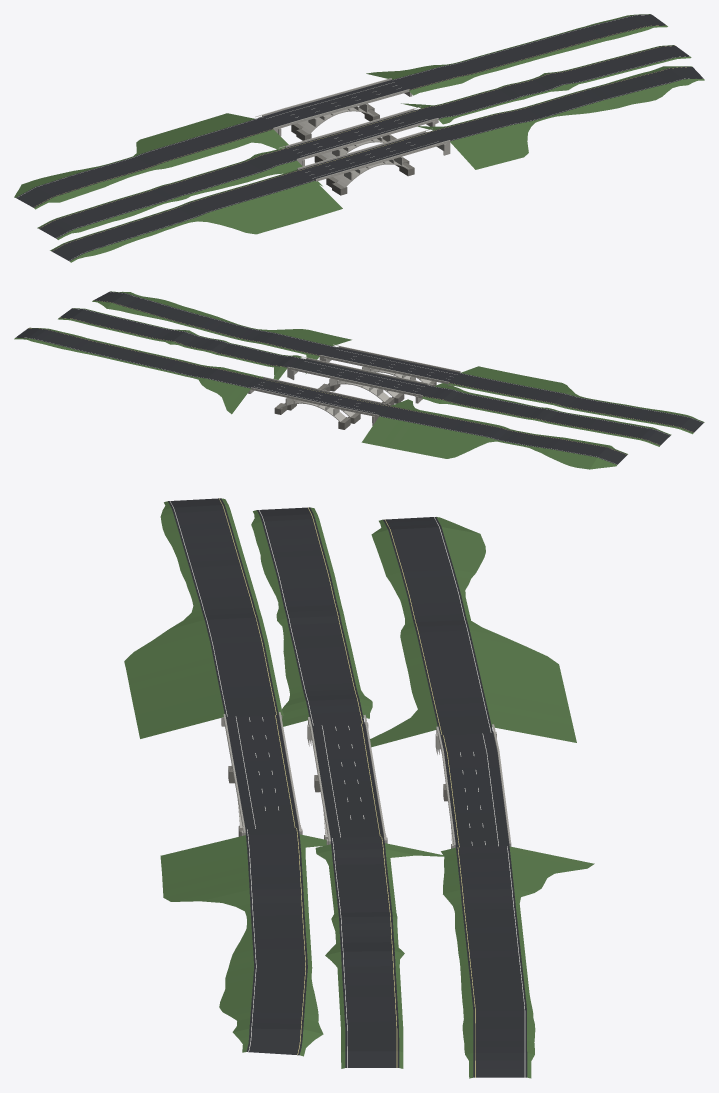
File: br_h28_blackmud_arches.gltf
The picture shows the model from 3 angles, top to bottom: view 1: azimuth 30°, elevation 25°; view 2: azimuth 150°, elevation 25°; view 3: azimuth 270°, elevation 25°; orthographic projection. The views are drawn at different scales.
Parts seen in each view (by area): view 1: br_h28_blackmud_arches; view 2: br_h28_blackmud_arches; view 3: br_h28_blackmud_arches.
Boxes of the visible parts, x1,y1,x2,y2 form: br_h28_blackmud_arches: (14,14,704,262); br_h28_blackmud_arches: (14,291,704,469); br_h28_blackmud_arches: (124,498,594,1078).
Size of the model in its own units: 391 by 15.05 by 132.
